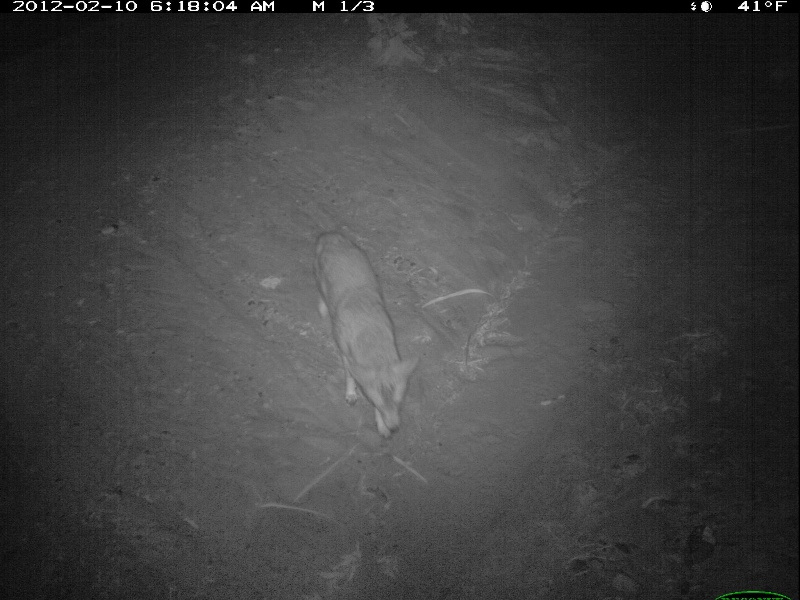coyote: (310, 228, 416, 439)
